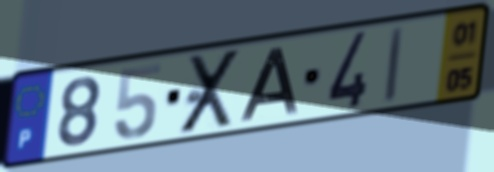4: (325, 28, 370, 112)
5: (112, 60, 164, 142)
8: (57, 74, 102, 148)
A: (237, 46, 302, 124)
I: (381, 23, 407, 106)
X: (176, 45, 246, 138)
